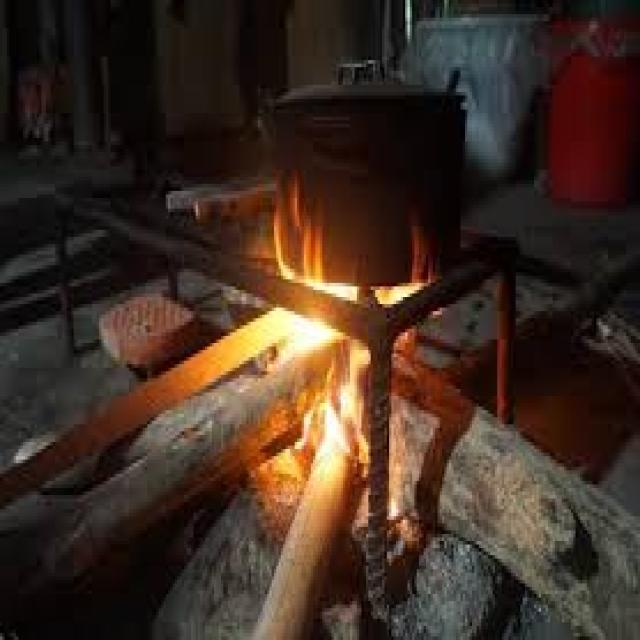fire: (245, 176, 290, 286), (408, 217, 448, 301), (300, 216, 328, 285)
